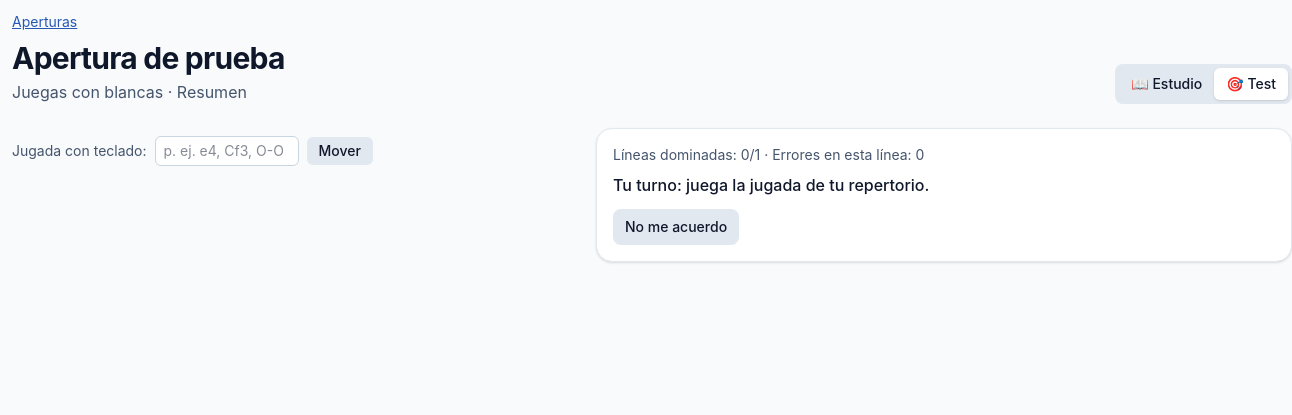
Test: OpeningPage › modo test: el alumno juega, la app responde y se registra la línea
This screenshot has width=1292, height=415.
Step 1. Type "d4" into the field labelled "Jugada con teclado:" → {"x": 226, "y": 151}, box top-left (154, 136), bottom-right (298, 166)
Then press Enter
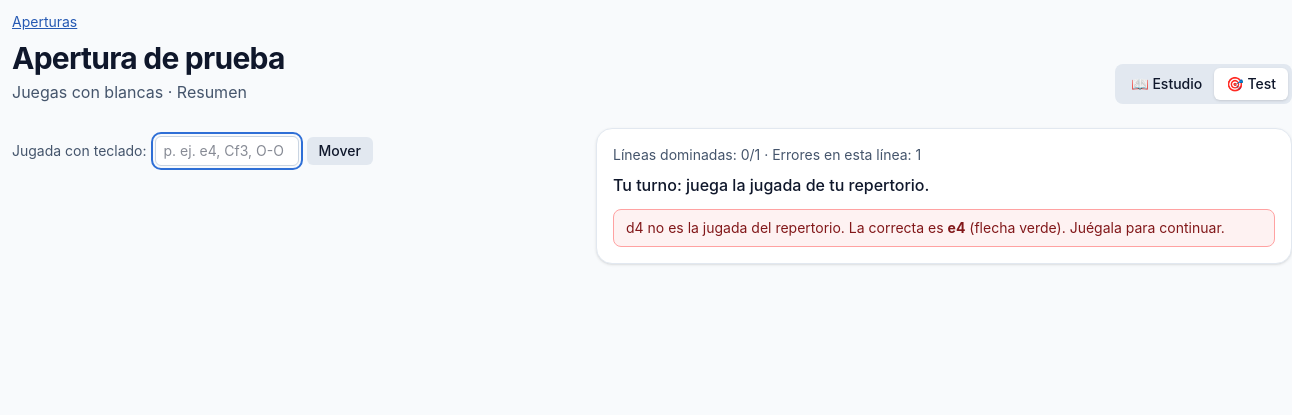
Expected: the text "no es la jugada del repertorio" is shown, top-left (626, 219), bottom-right (845, 236)
Step 2. Type "e4" into the field labelled "Jugada con teclado:" → {"x": 226, "y": 151}, box top-left (154, 136), bottom-right (298, 166)
Then press Enter
Wait 700 ms
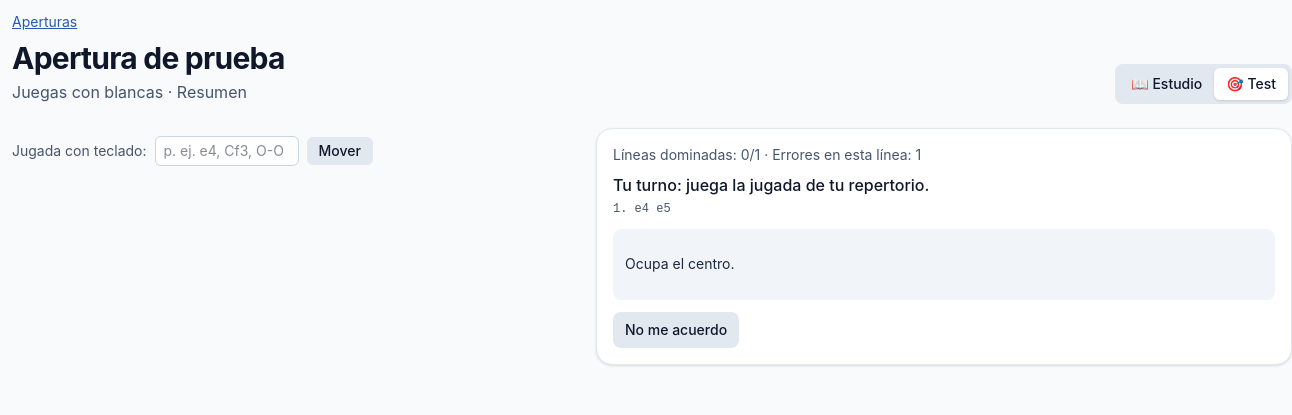
Step 3. Type "Cf3" into the field labelled "Jugada con teclado:" → {"x": 226, "y": 151}, box top-left (154, 136), bottom-right (298, 166)
Then press Enter
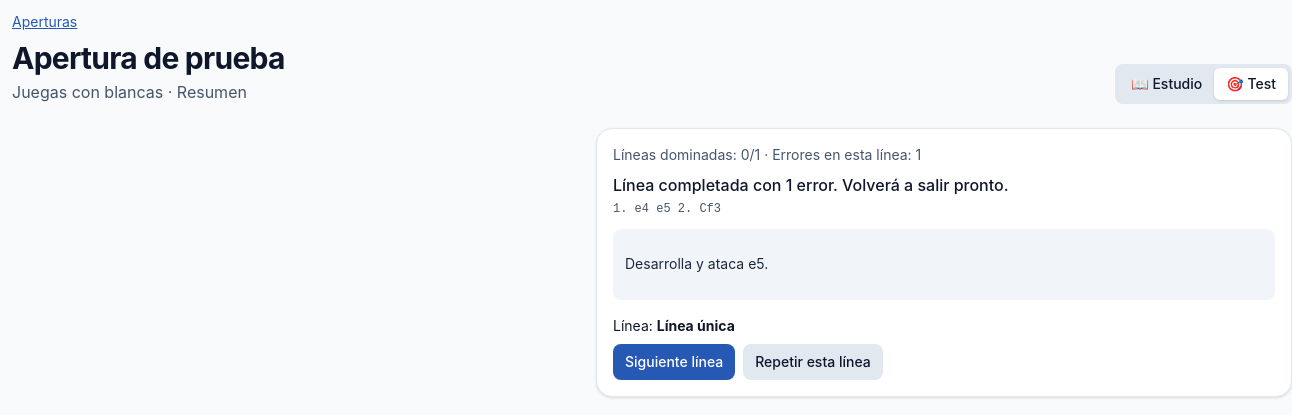
Expected: the text "Línea completada con 1 error. Volverá a salir pronto." is shown, top-left (613, 175), bottom-right (1008, 195)
